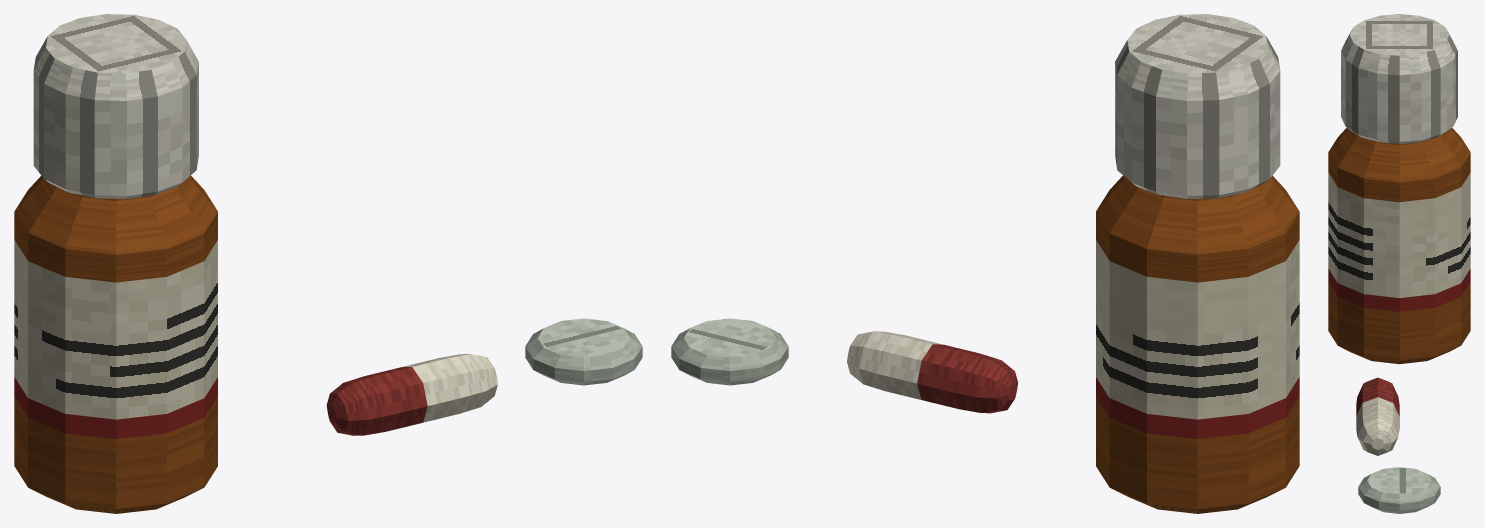
File: pills.glb
3 renders of one model, left to right at view 1: azimuth 30°, elevation 25°; view 2: azimuth 150°, elevation 25°; view 3: azimuth 270°, elevation 25°, orthographic. The views are drawn at different scales.
Visible parts, largest first — view 1: bottle_body, cap_shell, capsule, tablet; view 2: bottle_body, cap_shell, capsule, tablet; view 3: bottle_body, cap_shell, tablet, capsule.
Boxes of the visible parts, box(x1,y1,x2,y2) form: bottle_body: box(14, 175, 217, 513); cap_shell: box(33, 14, 198, 198); capsule: box(326, 354, 497, 435); tablet: box(525, 318, 642, 385); bottle_body: box(1096, 175, 1299, 513); cap_shell: box(1115, 14, 1280, 198); capsule: box(847, 331, 1017, 413); tablet: box(671, 318, 788, 385); bottle_body: box(1328, 128, 1470, 364); cap_shell: box(1341, 14, 1457, 143); tablet: box(1358, 467, 1440, 513); capsule: box(1356, 377, 1399, 455).
Bounding box in the file's own units: 0.1419 × 0.0975 × 0.0413.
1 material, 1 textured.
